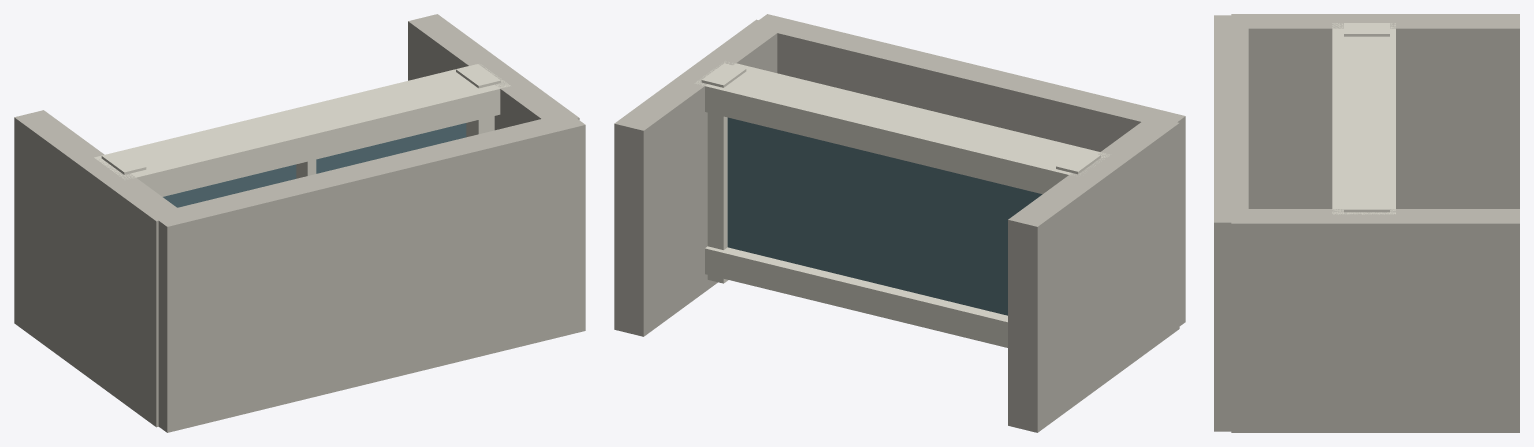
3 views of the same model, side by side, from view 1: azimuth 30°, elevation 25°; view 2: azimuth 150°, elevation 25°; view 3: azimuth 270°, elevation 25° (orthographic).
Visible parts, largest first — view 1: QH-A0107_V02_geometry; view 2: QH-A0107_V02_geometry; view 3: QH-A0107_V02_geometry.
Boxes of the visible parts, bbox=[...] form: QH-A0107_V02_geometry: bbox=[14, 14, 585, 432]; QH-A0107_V02_geometry: bbox=[614, 14, 1185, 432]; QH-A0107_V02_geometry: bbox=[1214, 14, 1519, 432].
Bounding box in the file's own units: 1.72 × 0.81 × 1.06.
